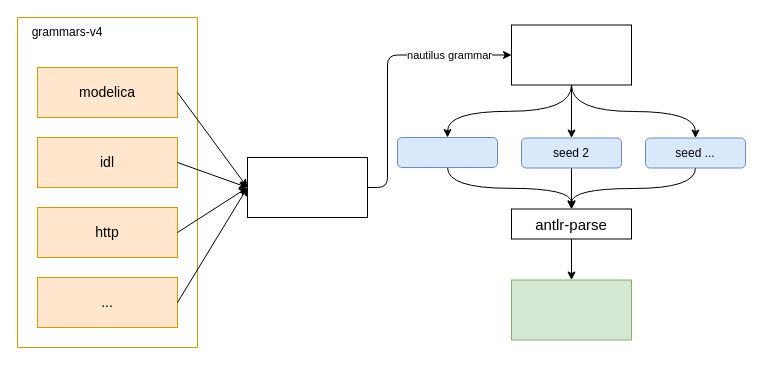
Some shapes in this 763 by 365 pixel diagram are drawn without their labels. Each missing label, with the centre of its shape:
"babel ANTLR -> Nautilus" goes at (x=307, y=187).
"Nautilus Fuzzer Seed Generator" goes at (x=571, y=54).
"per grammar coverage information" goes at (x=571, y=309).
"seed 1" goes at (x=447, y=152).
